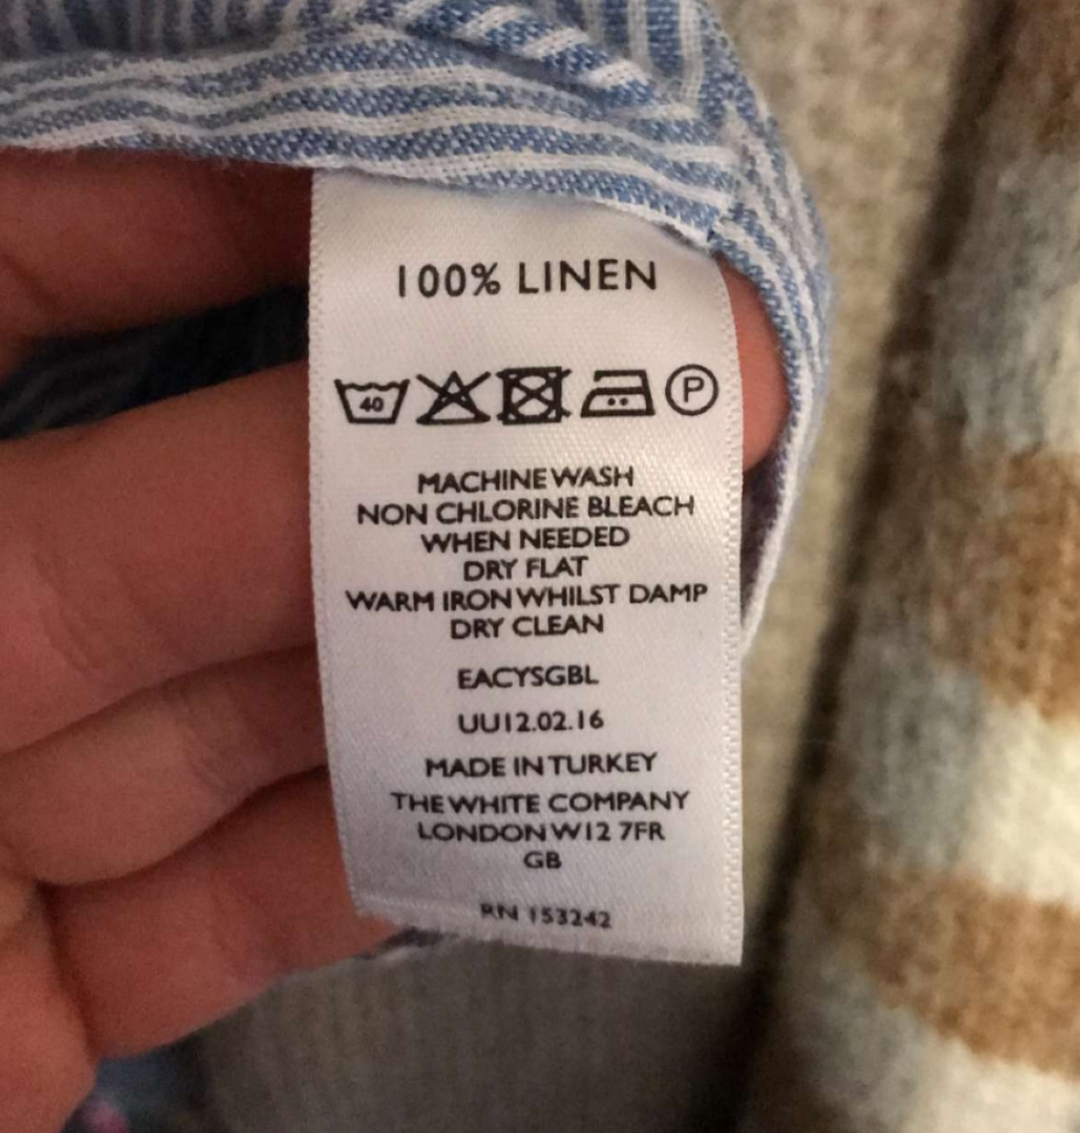do not bleach: (409, 354, 497, 437)
do not dry clean: (497, 356, 575, 431)
dry clean: (664, 353, 720, 426)
iron medium temp: (575, 362, 668, 426)
wash at or below 40: (322, 363, 413, 443)
